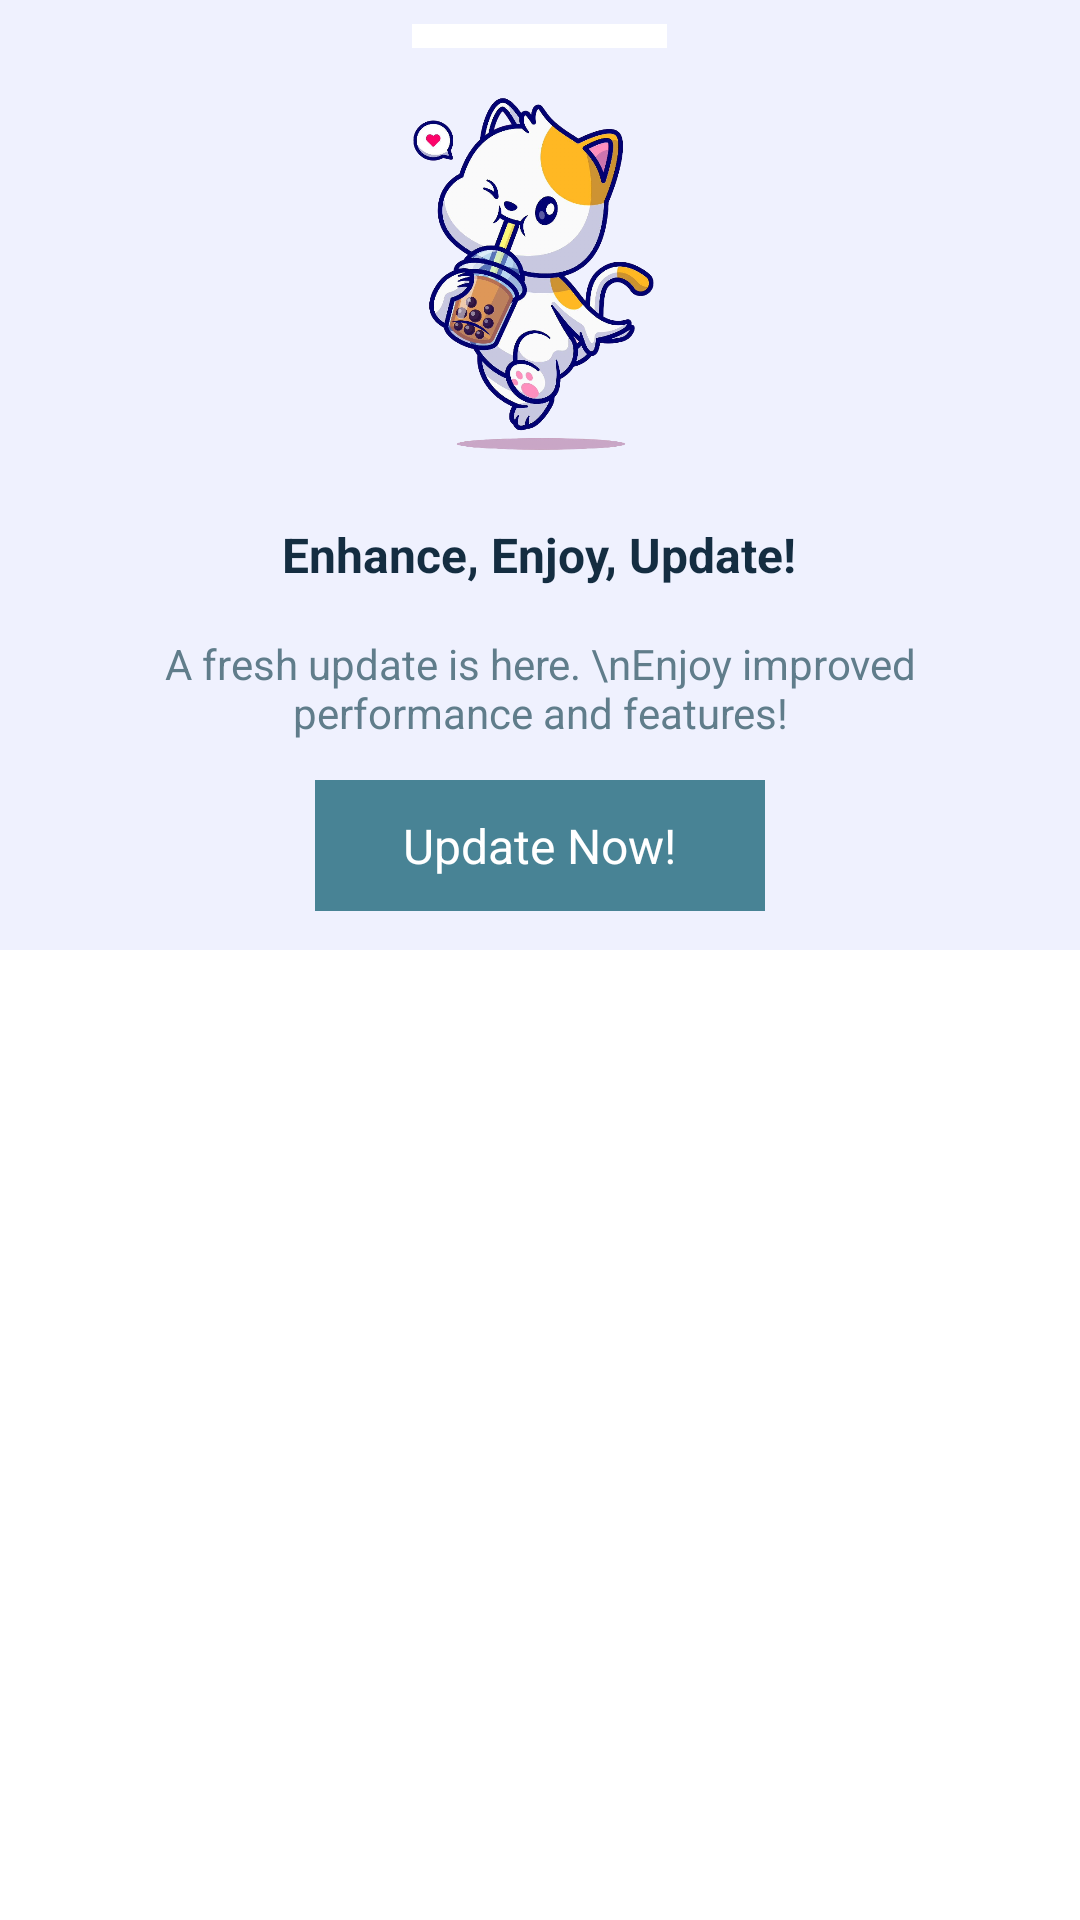

Where icons sit on this 1080×1920 app screen, as (x1, y1, x2, y2):
cat: (413, 98, 654, 450)
